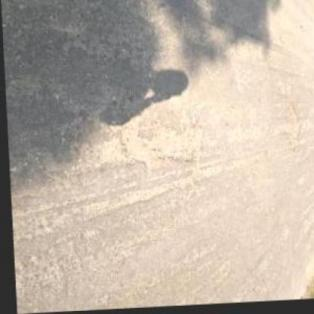Hueco: (94, 113, 204, 173), (282, 106, 300, 154)
